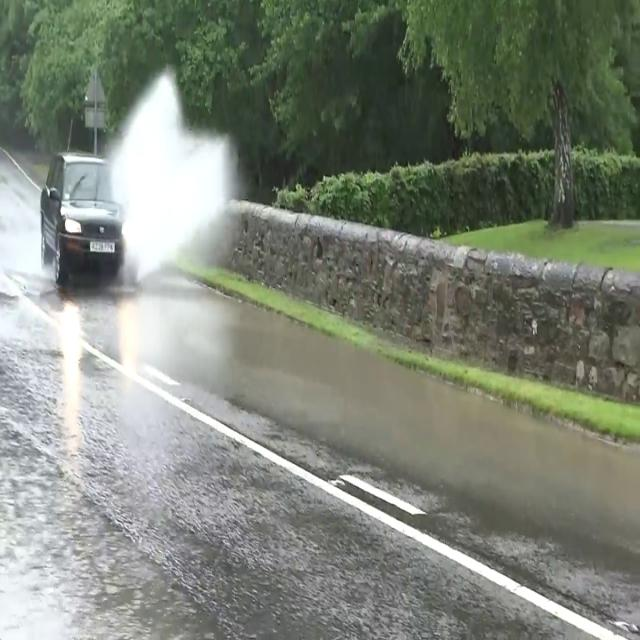license-plate-annotation: (84, 235, 118, 257)
